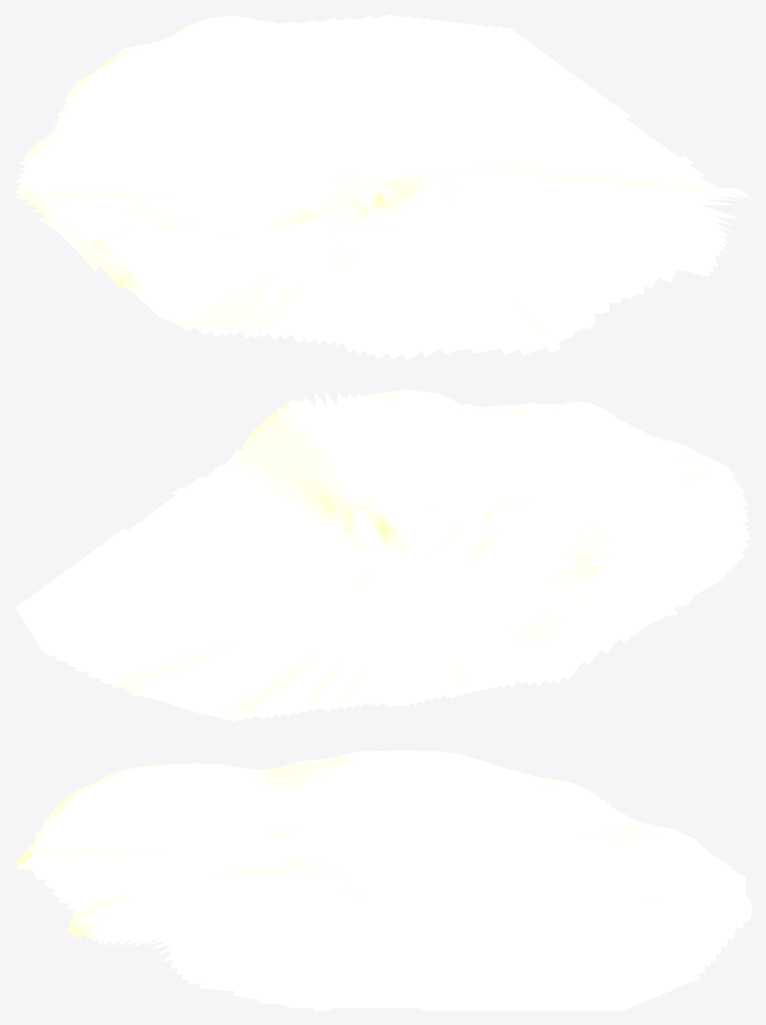
File: TownGround.glb
3 views of the same model, one above another, from view 1: azimuth 30°, elevation 25°; view 2: azimuth 150°, elevation 25°; view 3: azimuth 270°, elevation 25° (orthographic). The views are drawn at different scales.
Parts seen in each view (by area): view 1: Plane; view 2: Plane; view 3: Plane.
Part boxes in pixels (box(x1,y1,x2,y2)): Plane: box(14, 14, 751, 360); Plane: box(14, 389, 751, 721); Plane: box(14, 750, 751, 1010).
Bounding box in the file's own units: 1871 × 146 × 2457.
